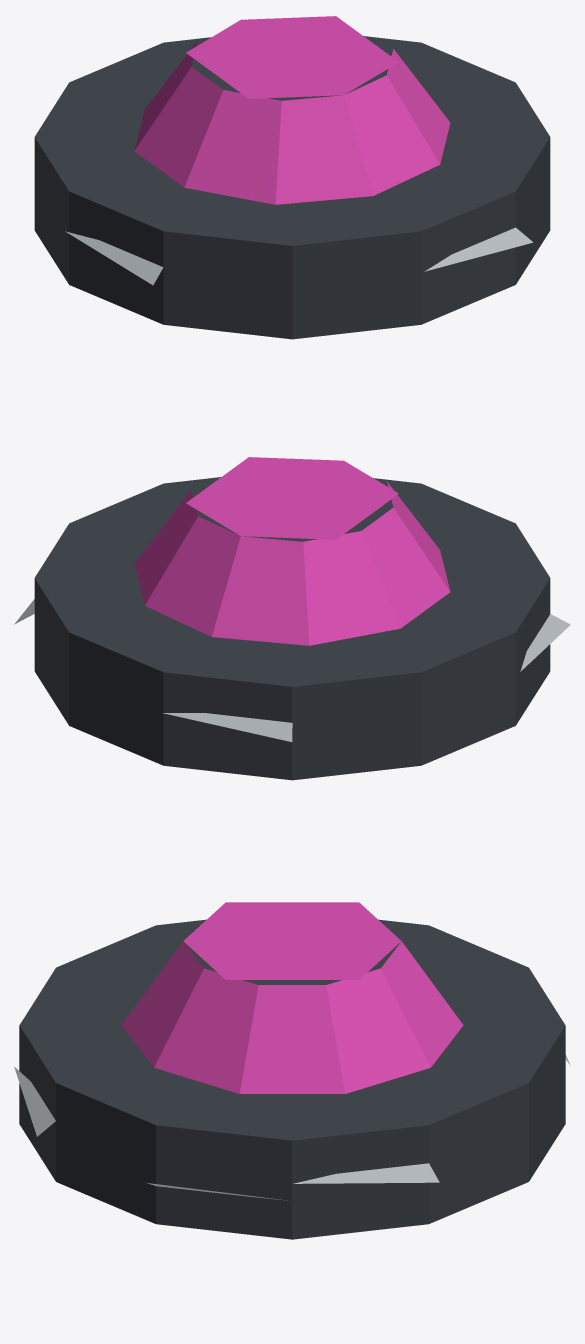
File: mine-plasma.lod.glb
3 renders of one model, top to bottom at view 1: azimuth 30°, elevation 25°; view 2: azimuth 150°, elevation 25°; view 3: azimuth 270°, elevation 25°, orthographic. The views are drawn at different scales.
Visible parts, largest first — view 1: m; view 2: m; view 3: m.
Boxes of the visible parts, x1,y1,x2,y2 form: m: [34, 16, 550, 339]; m: [14, 457, 570, 780]; m: [14, 902, 570, 1239].
Size of the model in its own units: 0.0944 by 0.0519 by 0.0944.
